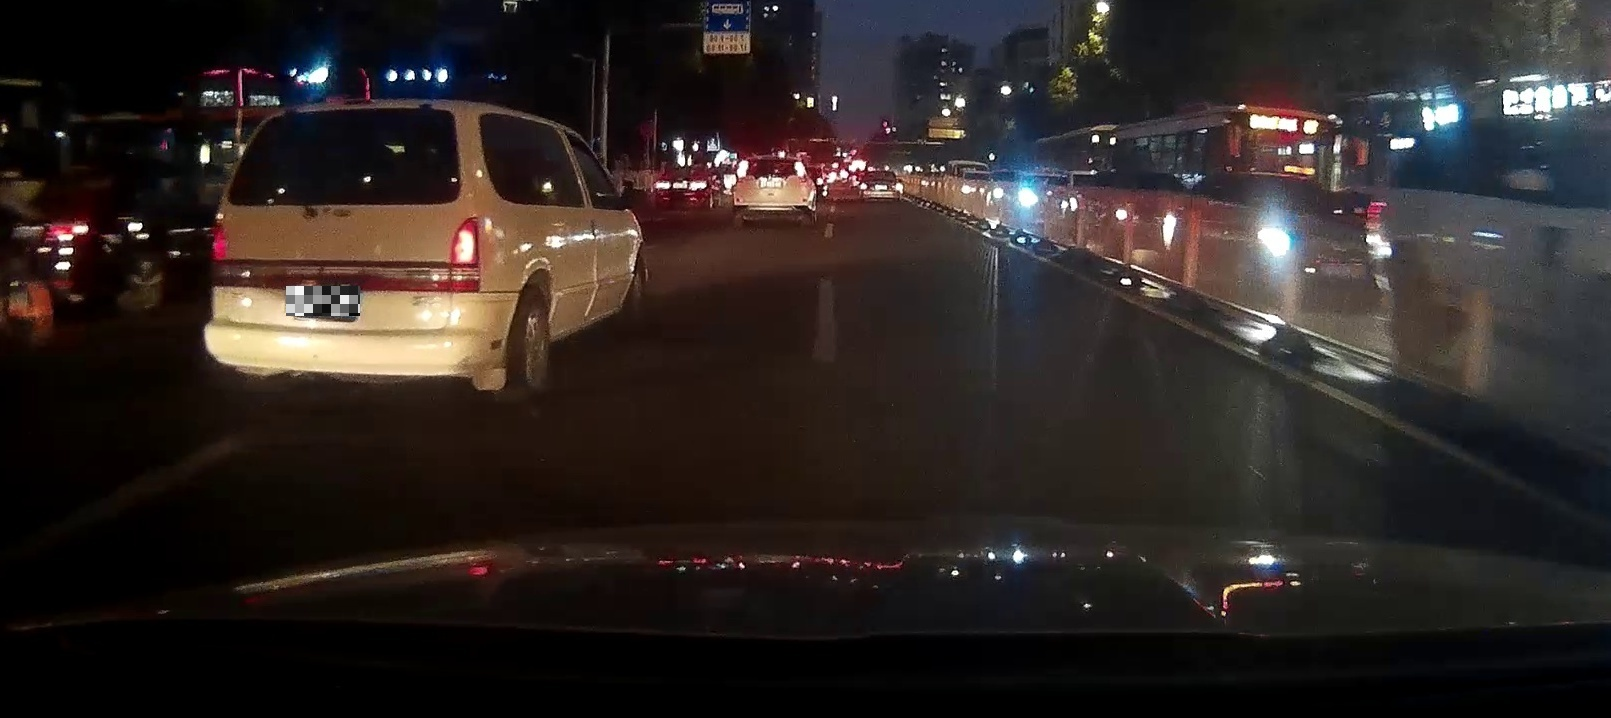L_light: (211, 222, 227, 259), (736, 159, 748, 178)
R_light: (450, 218, 478, 266), (794, 162, 805, 178)
T_light: (330, 110, 364, 119), (763, 159, 776, 162)
night-no: (733, 156, 809, 226)
night-right: (203, 100, 480, 414)
plate_1: (286, 286, 360, 316)
